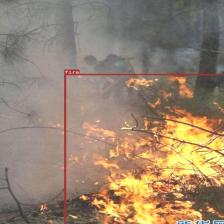fire: (64, 73, 224, 224)
